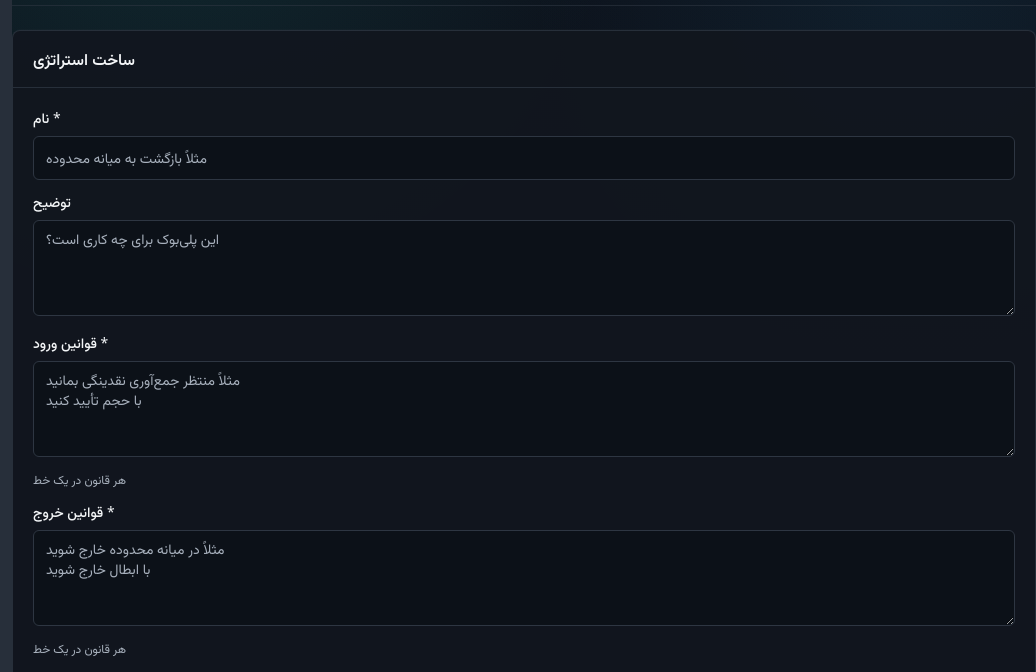
Scenario: StrategyScreen in Persian › shows a Persian line when the strategy could not be saved
Type "بازگشت" into the field labelled "نام *". click: (524, 158)
box: x1=33 y1=136 x2=1015 y2=180
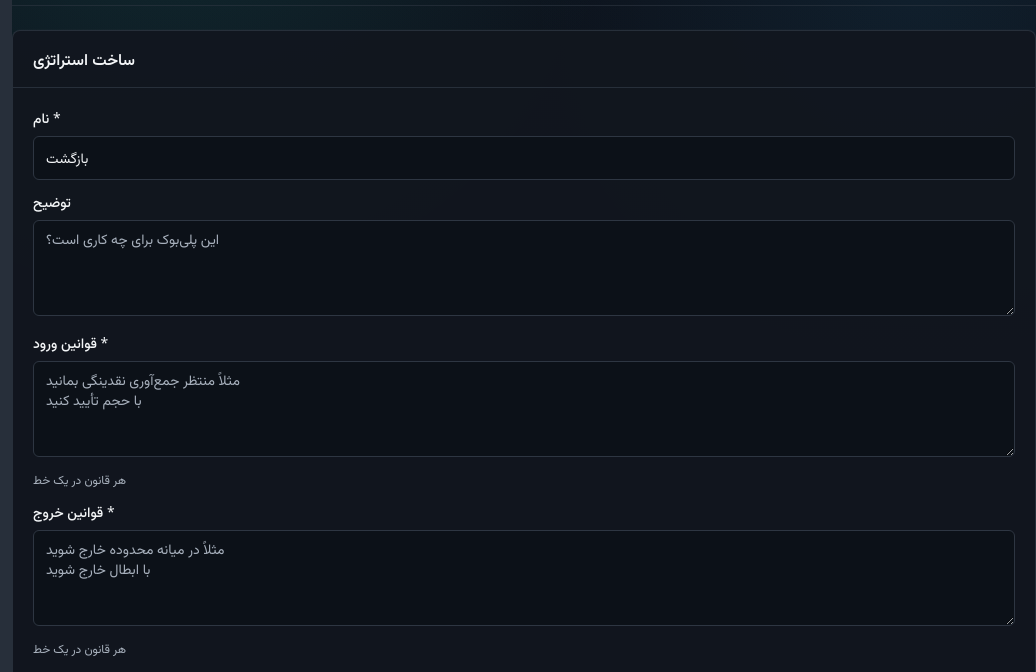
Type "منتظر تأیید" into the text box labelled "قوانین ورود * هر قانون در یک خط". click: (524, 409)
box: x1=33 y1=361 x2=1015 y2=457
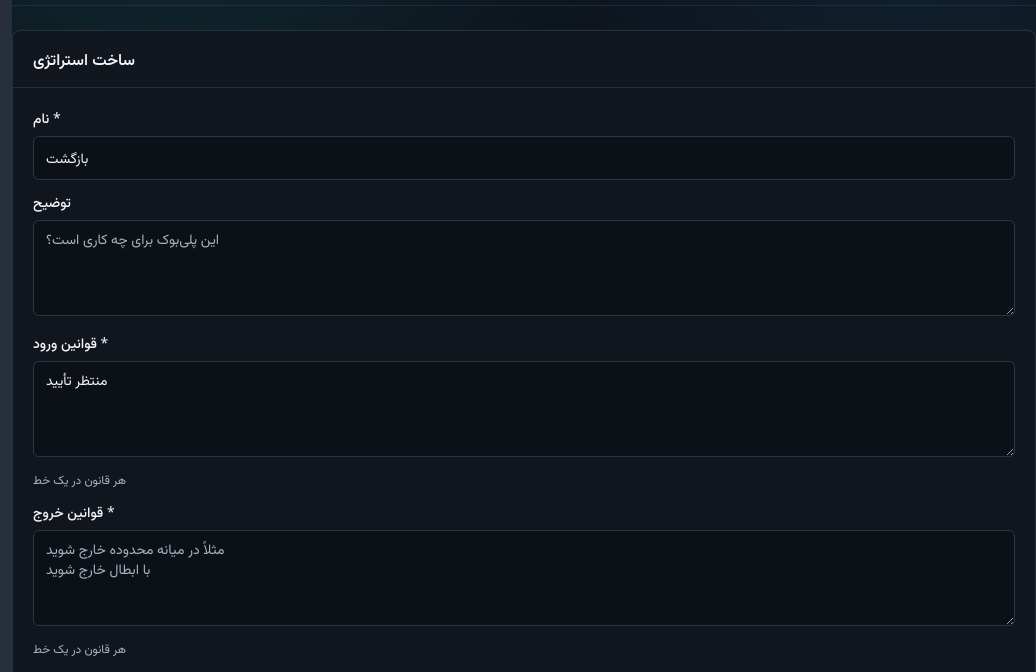
Type "خروج در میانه" into the text box labelled "قوانین خروج * هر قانون در یک خط". click: (524, 578)
box: x1=33 y1=530 x2=1015 y2=626
(page scrolled)
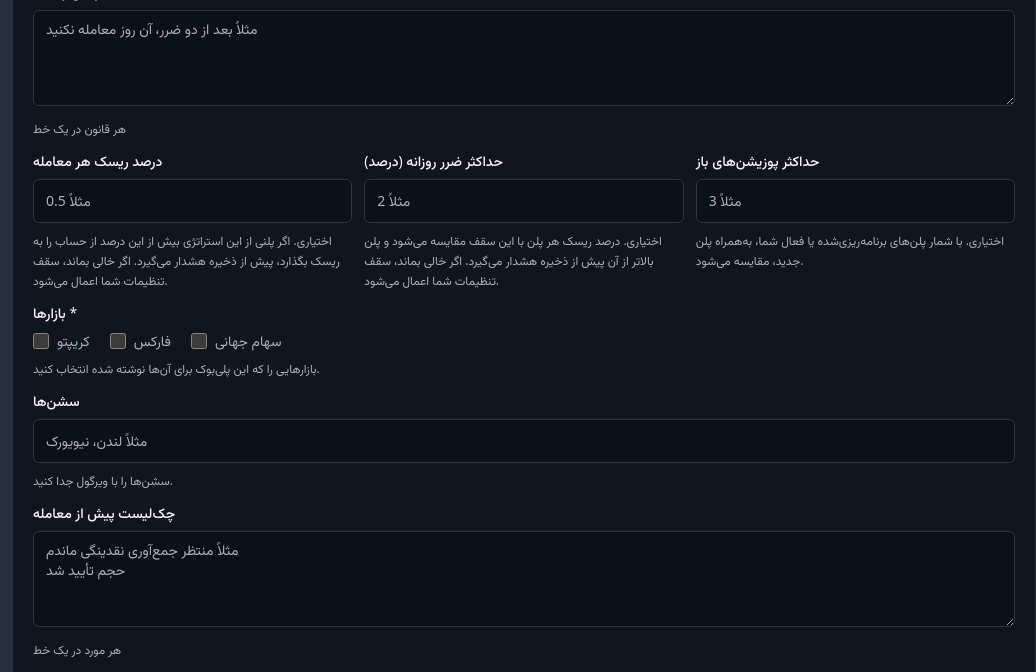
Click the checkbox named "allowedMarkets". click: click(118, 341)
box: x1=110 y1=333 x2=126 y2=349
(page scrolled)
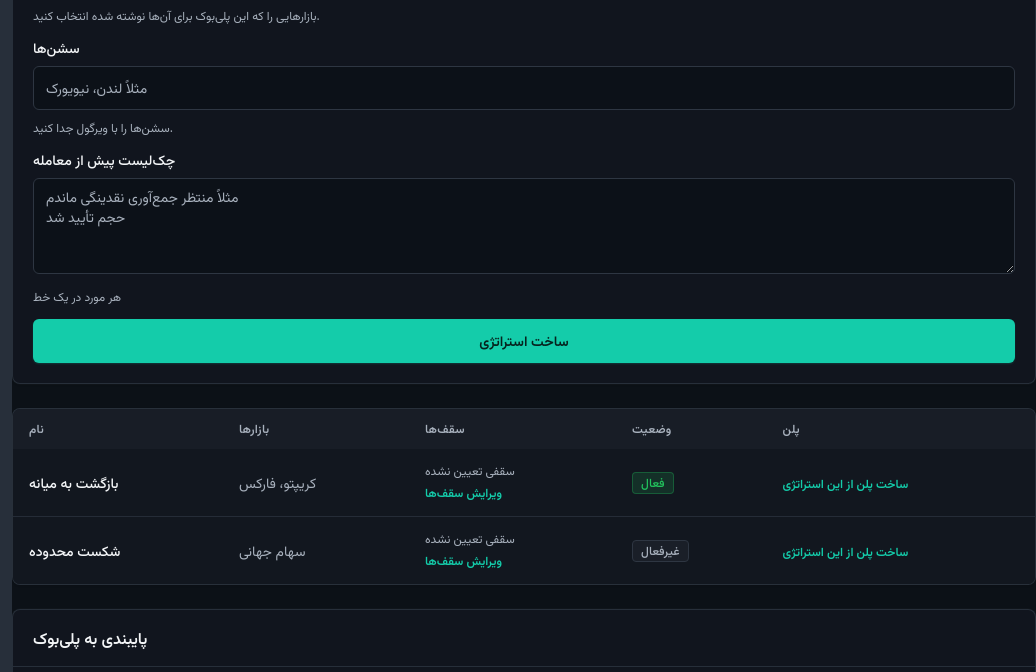
Click the button "ساخت استراتژی". click: click(524, 341)
box: x1=33 y1=319 x2=1015 y2=363
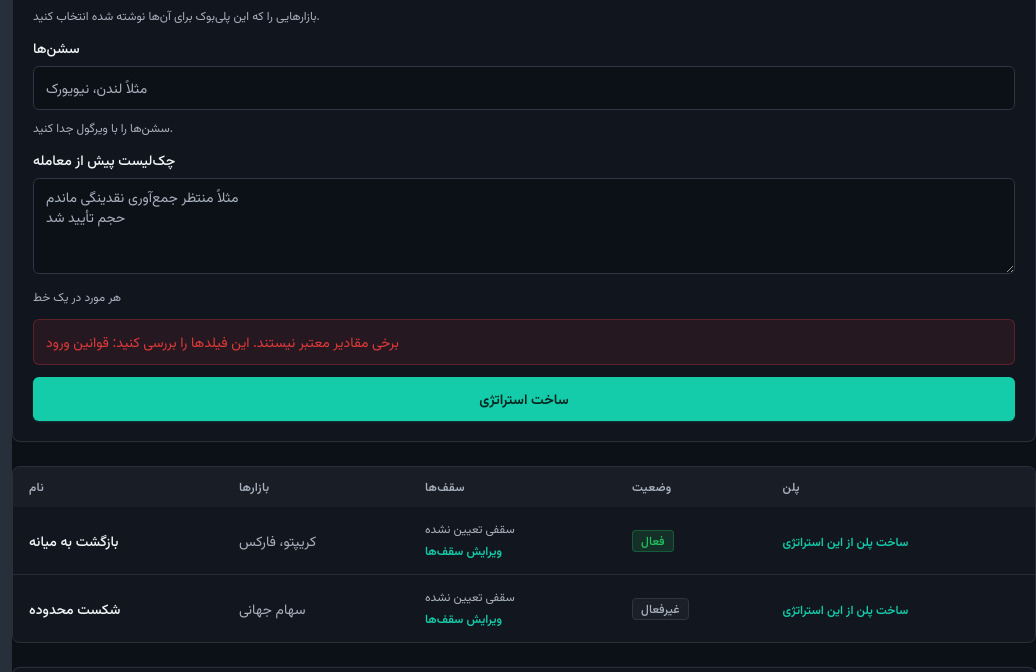
Expected: the message reads "برخی مقادیر معتبر نیستند. این فیلدها را بررسی کنید: قوانین ورود", x1=46 y1=332 x2=399 y2=351
